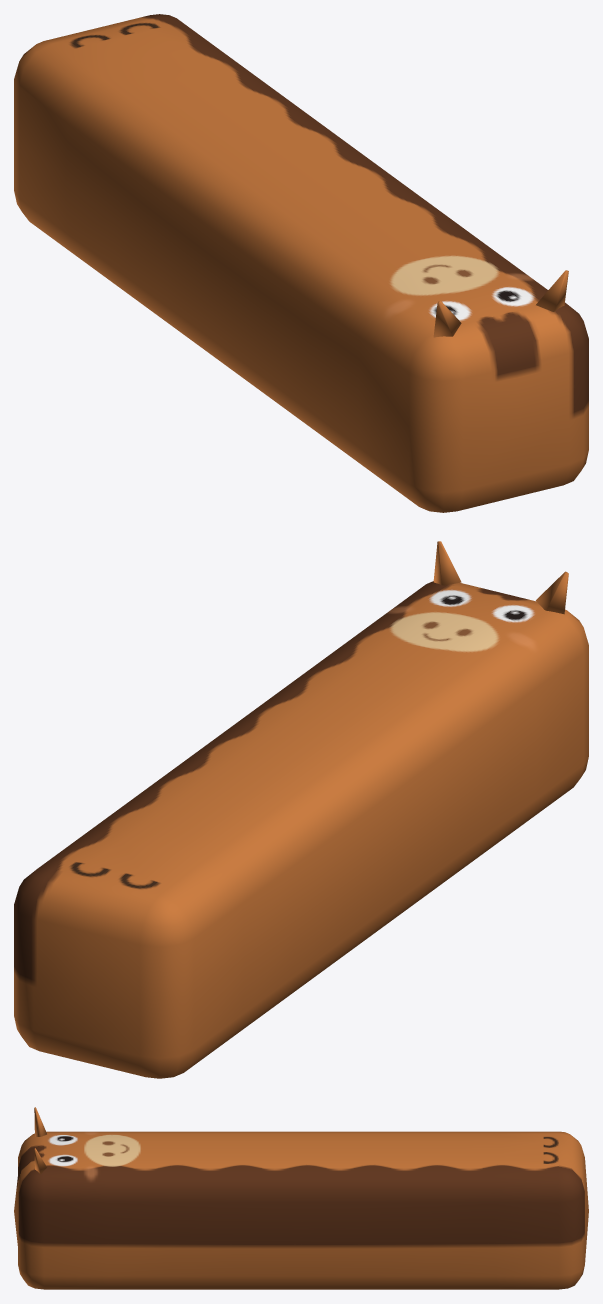
The model's file is Horse_4x1.fbx.
The picture shows the model from 3 angles, top to bottom: view 1: azimuth 30°, elevation 25°; view 2: azimuth 150°, elevation 25°; view 3: azimuth 270°, elevation 25°; orthographic projection. The views are drawn at different scales.
Parts seen in each view (by area): view 1: Horse_4x1; view 2: Horse_4x1; view 3: Horse_4x1.
Boxes of the visible parts, <box> form: Horse_4x1: <box>14,14,588,512</box>; Horse_4x1: <box>14,541,588,1078</box>; Horse_4x1: <box>14,1107,588,1289</box>.
Size of the model in its own units: 0.976 by 1.04 by 3.98.
Materials: 1 (1 with a texture image).
